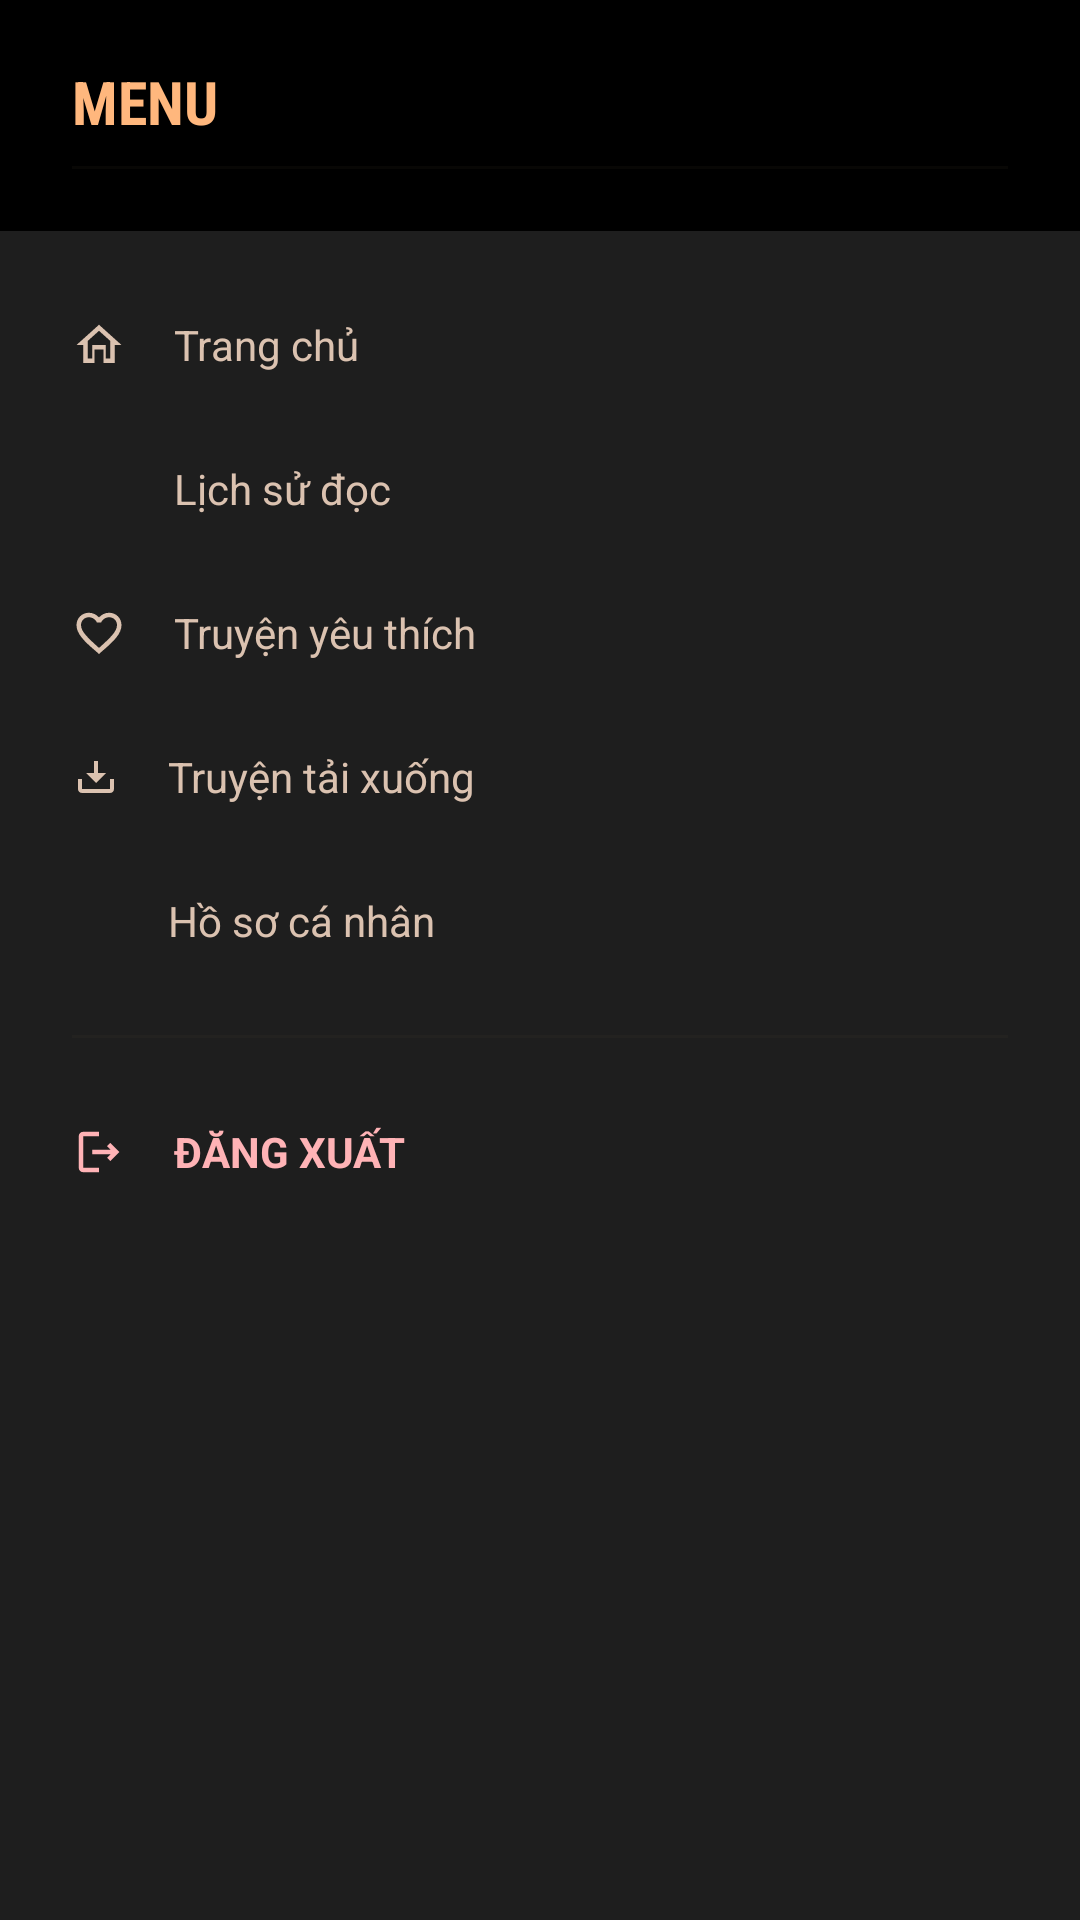

Screen size 1080*1920. Icon name, then its box in pixels as detection(x1, y1, x2, y2):
download: detection(78, 761, 114, 793)
heart: detection(76, 612, 122, 654)
home: detection(77, 325, 121, 363)
